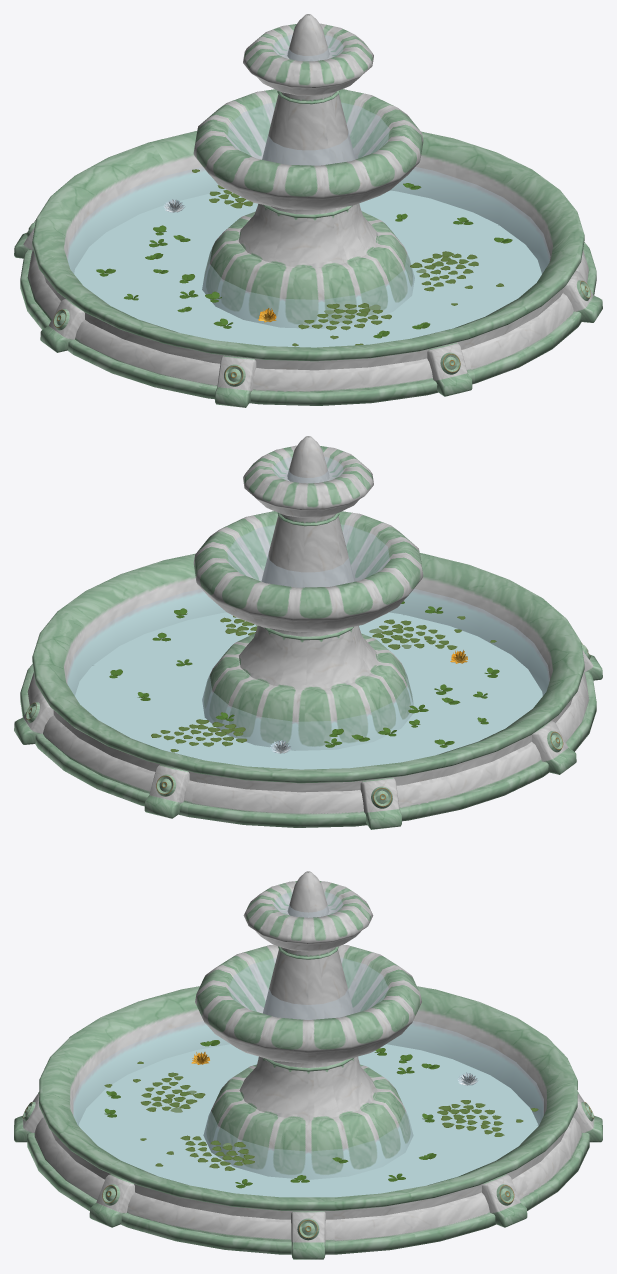
File: Big_Fountain.glb
The picture shows the model from 3 angles, top to bottom: view 1: azimuth 30°, elevation 25°; view 2: azimuth 150°, elevation 25°; view 3: azimuth 270°, elevation 25°; orthographic projection. The views are drawn at different scales.
Visible parts, largest first — view 1: Pool03LOW, water, Plane.004, Plane.006; view 2: Pool03LOW, water, Plane.006, Plane.005; view 3: Pool03LOW, water, Plane.006, Plane.004, Plane.005.
Part boxes in pixels (x1,y1,x2,y2): Pool03LOW: [14, 14, 602, 407]; water: [67, 35, 550, 347]; Plane.004: [410, 251, 503, 305]; Plane.006: [292, 303, 391, 346]; Pool03LOW: [14, 436, 602, 829]; water: [67, 457, 549, 769]; Plane.006: [369, 616, 496, 649]; Plane.005: [151, 719, 246, 752]; Pool03LOW: [14, 871, 602, 1259]; water: [73, 892, 543, 1196]; Plane.006: [104, 1061, 205, 1112]; Plane.004: [140, 1135, 254, 1170]; Plane.005: [437, 1100, 538, 1136].
Size of what is drawn, in the model's own units: 12.94 by 6.39 by 12.94.
4 materials, 3 textured.
